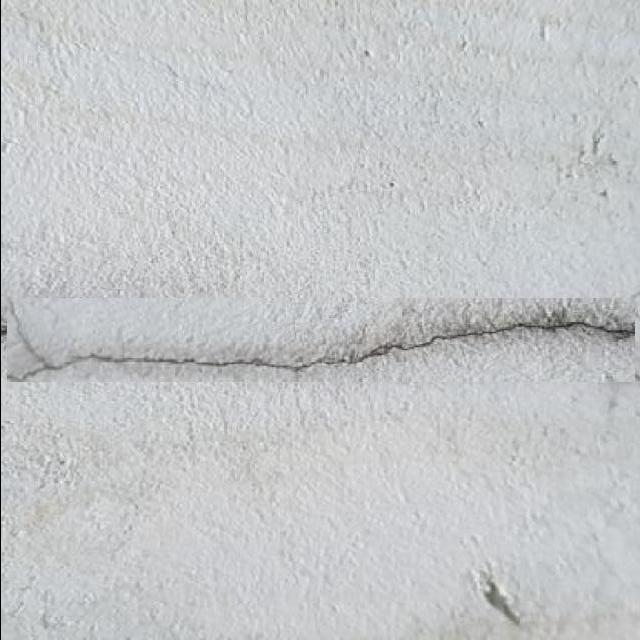Crack: (2, 291, 639, 381)
